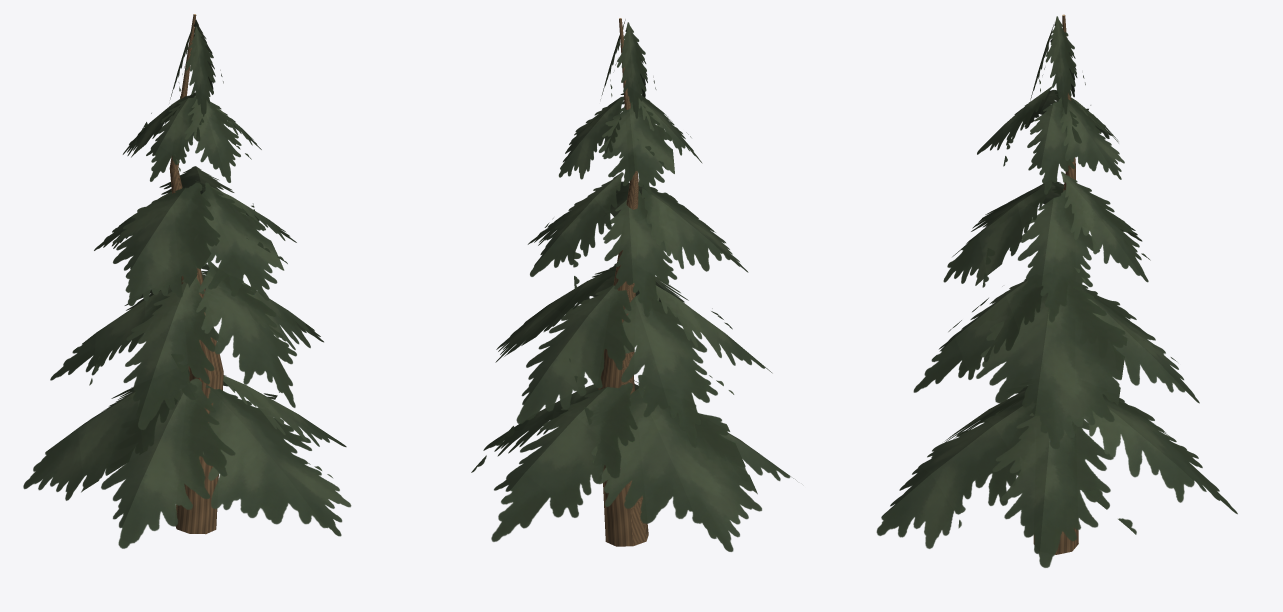
The picture shows the model from 3 angles, left to right: view 1: azimuth 30°, elevation 25°; view 2: azimuth 150°, elevation 25°; view 3: azimuth 270°, elevation 25°; orthographic projection. The views are drawn at different scales.
Visible parts, largest first — view 1: Tapered harvest trunk; view 2: Tapered harvest trunk; view 3: Tapered harvest trunk.
Part boxes in pixels (x1,y1,x2,y2): Tapered harvest trunk: (23,14,351,548); Tapered harvest trunk: (471,18,797,551); Tapered harvest trunk: (876,14,1237,567).
Bounding box in the file's own units: 2.03 × 3.11 × 2.24.
Materials: 3 (2 with a texture image).
